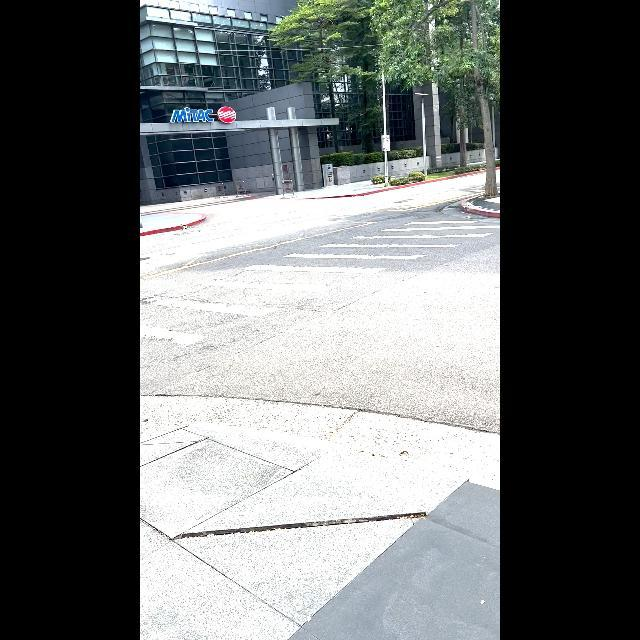sidewalk: (140, 217, 500, 348)
